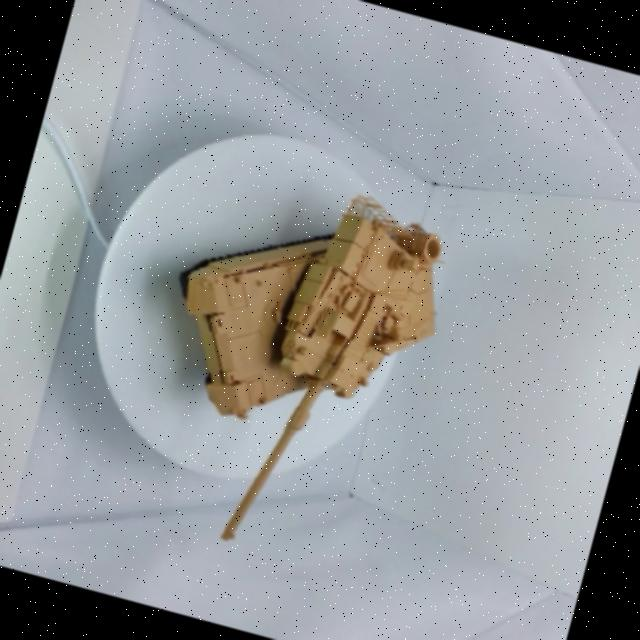korea tank: (92, 135, 494, 594)
